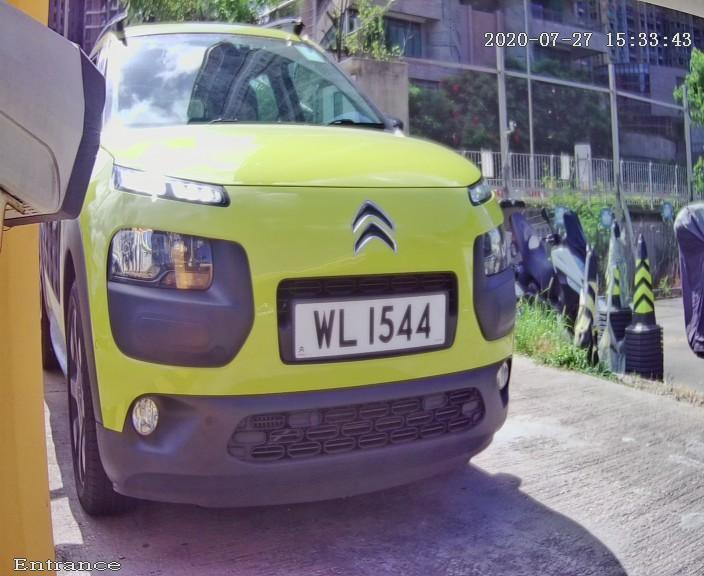privatecar: (29, 11, 551, 543)
